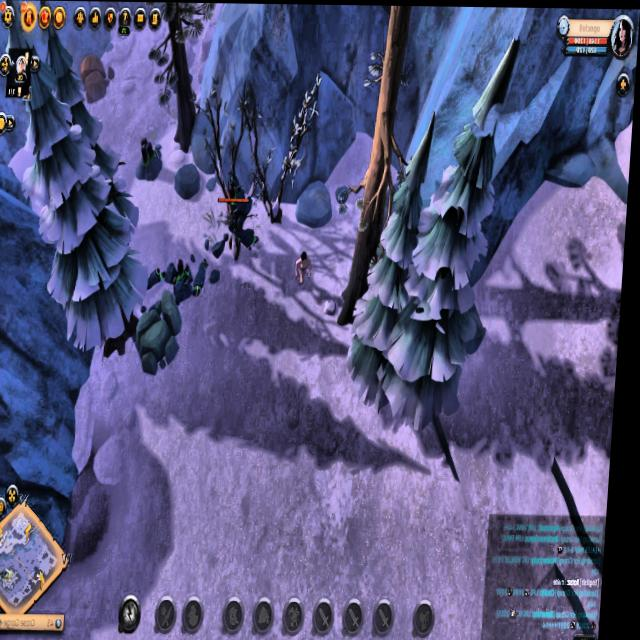copper_ore: (438, 262, 460, 282)
limestone: (136, 284, 191, 377), (80, 44, 118, 105), (135, 136, 167, 183)
